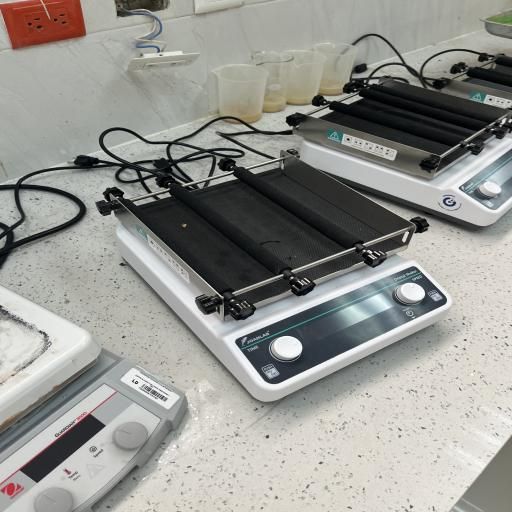Agitador_Orbital_DLAB: (90, 138, 460, 409)
